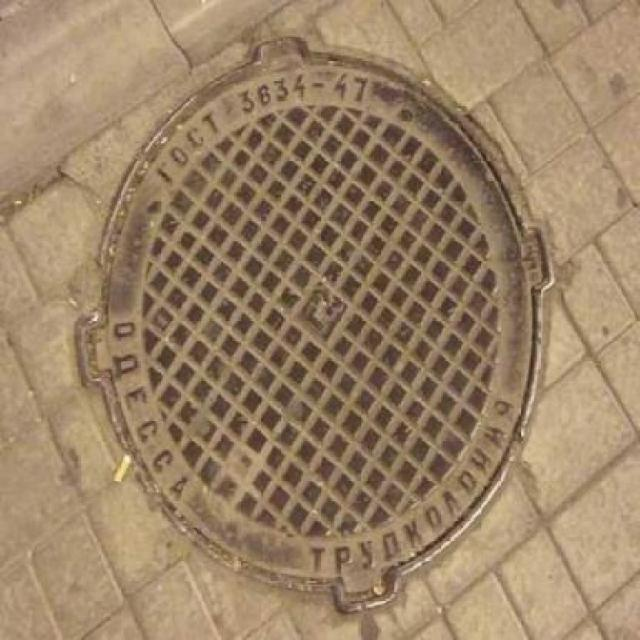Manhole: (63, 22, 574, 620)
